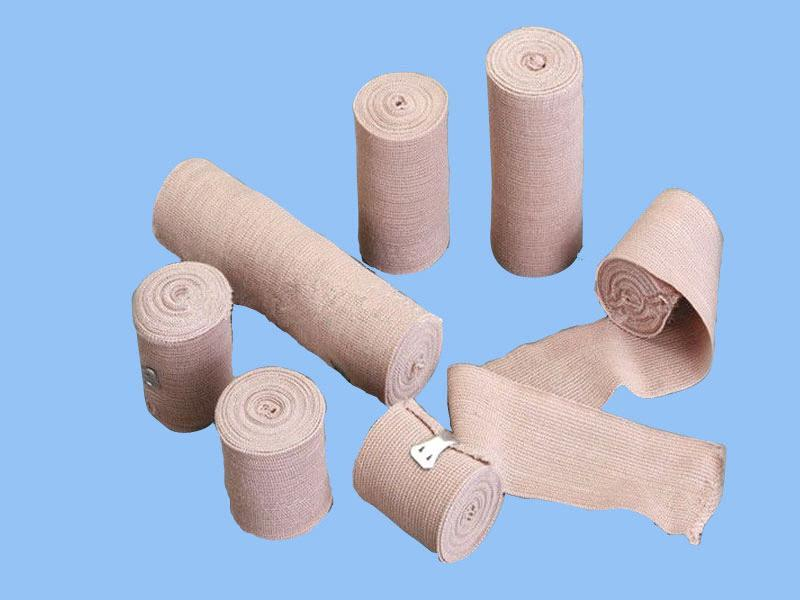bandage: (450, 194, 728, 547), (148, 154, 443, 405), (488, 29, 585, 277), (348, 399, 498, 555), (214, 372, 335, 542), (354, 68, 451, 274), (133, 263, 234, 434)
